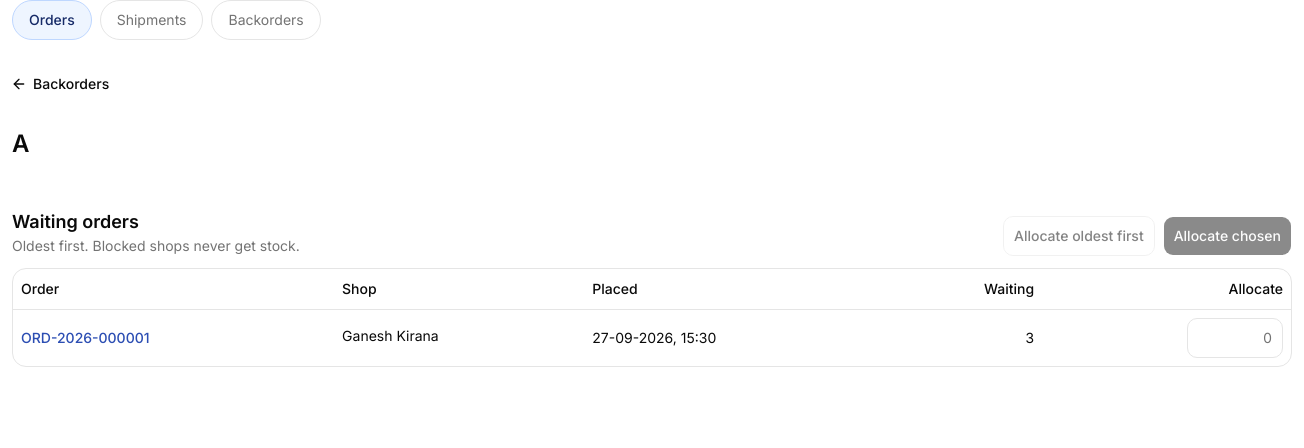
Test: Backorder allocation › tells users without credit.manage who can allocate
Type "1" into the field named "Quantity to allocate to order ORD-2026-000001". click: (1235, 338)
box: top-left (1187, 318), bottom-right (1283, 358)
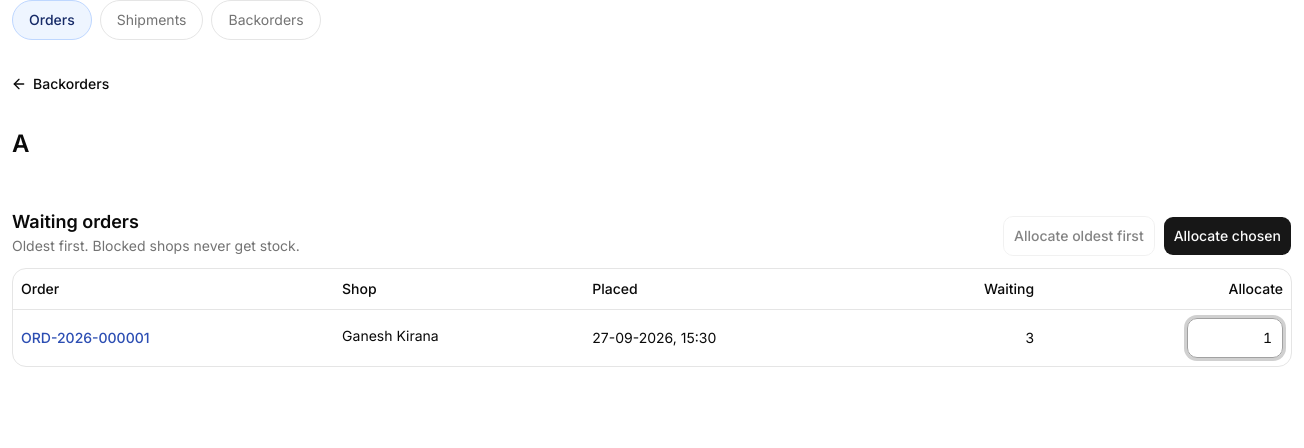
Click the button "Allocate chosen". click: (1227, 236)
box: top-left (1163, 216), bottom-right (1292, 256)
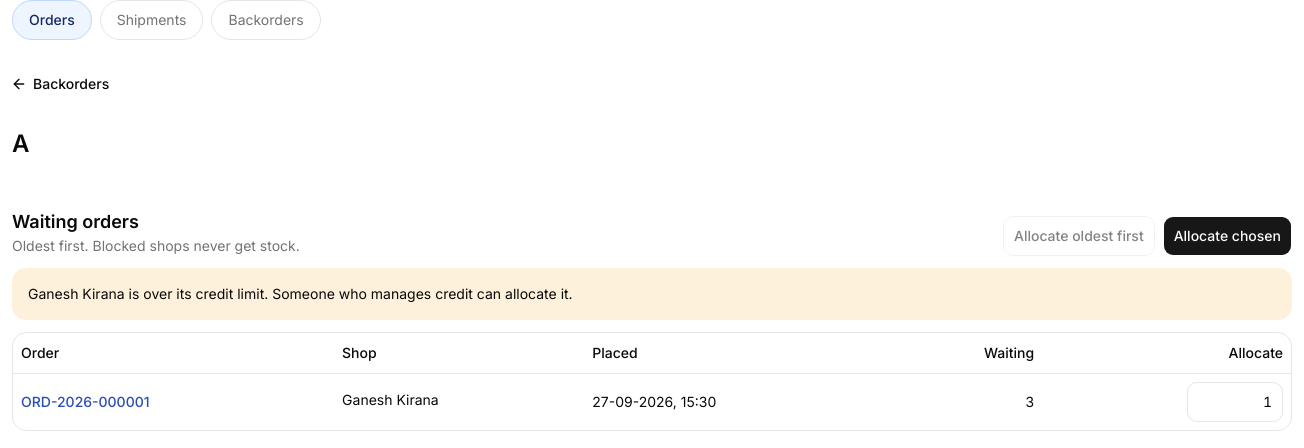
Result: the text "Someone who manages credit can allocate it" is shown at top-left (272, 285), bottom-right (573, 302)
